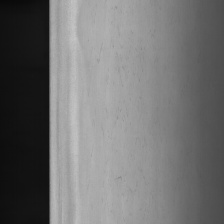silk_spot: (91, 22, 143, 142)
